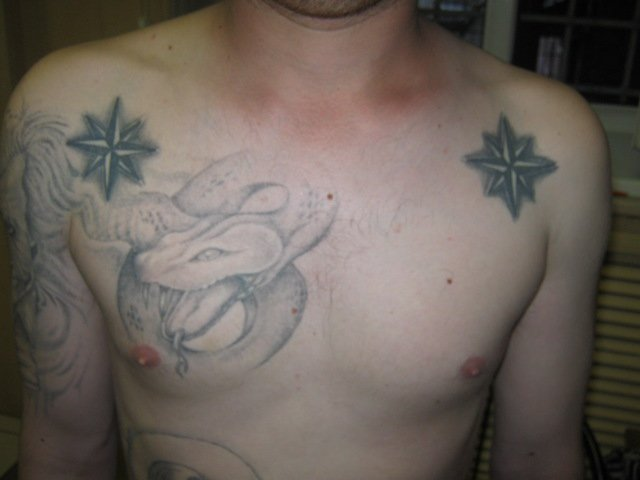tatu4_zvezda: (460, 109, 568, 217), (61, 87, 166, 192)
tatu7_zmeya: (91, 124, 326, 360)
